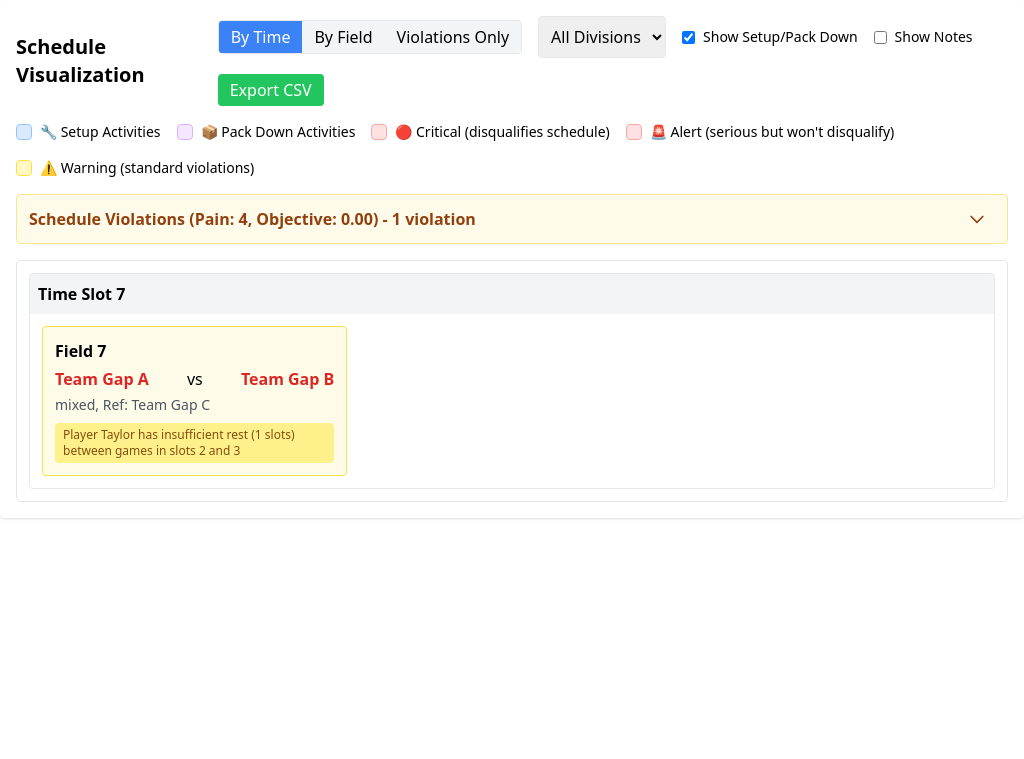
Test: ScheduleVisualization › shows gap size details for manage rest time and gaps in specific view
Click the button "Violations Only" at (453, 37), box [385,21,521,53]
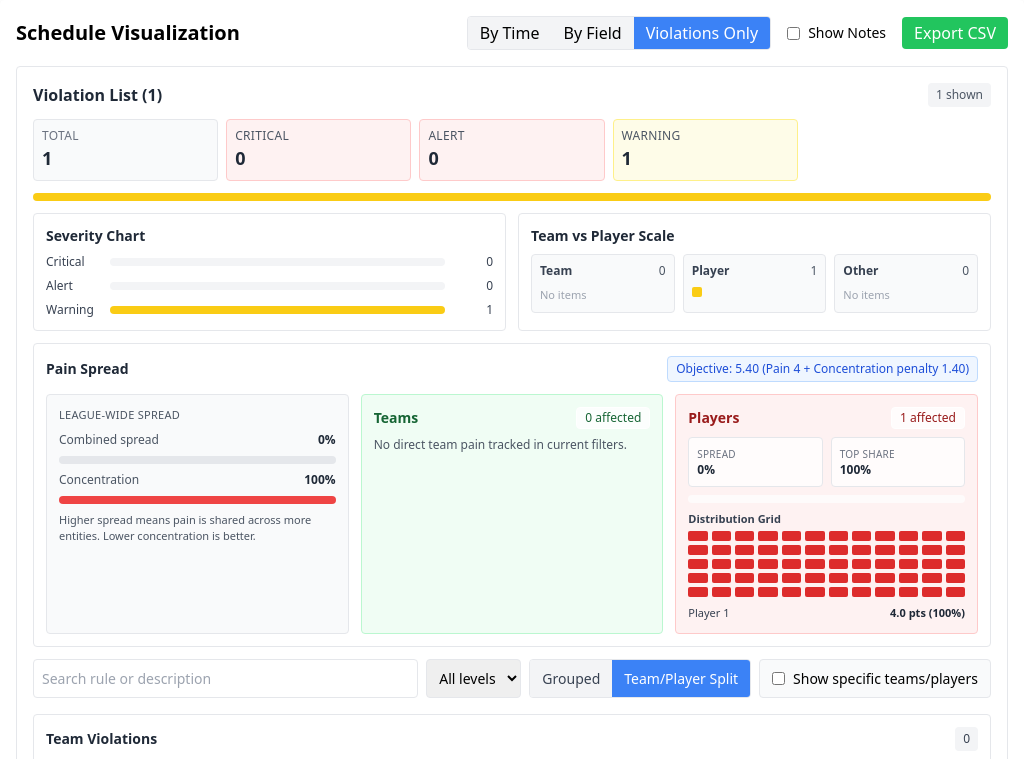
Click the checkbox labelled "Show specific teams/players" at (779, 678), box [772,672,785,685]
(page scrolled)
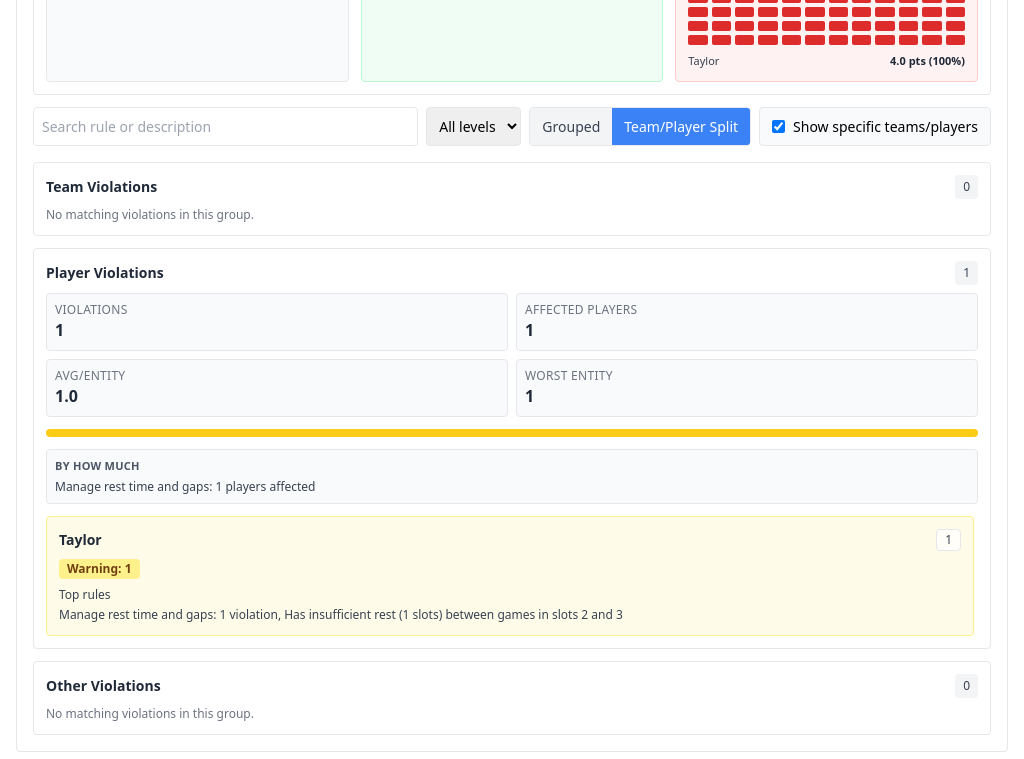
Expected: the text "Manage rest time and gaps:" next to "1 players affected" is shown, [55,478,212,494]
Expected: the text "insufficient rest (1 slots)" is shown, [278,606,623,622]
